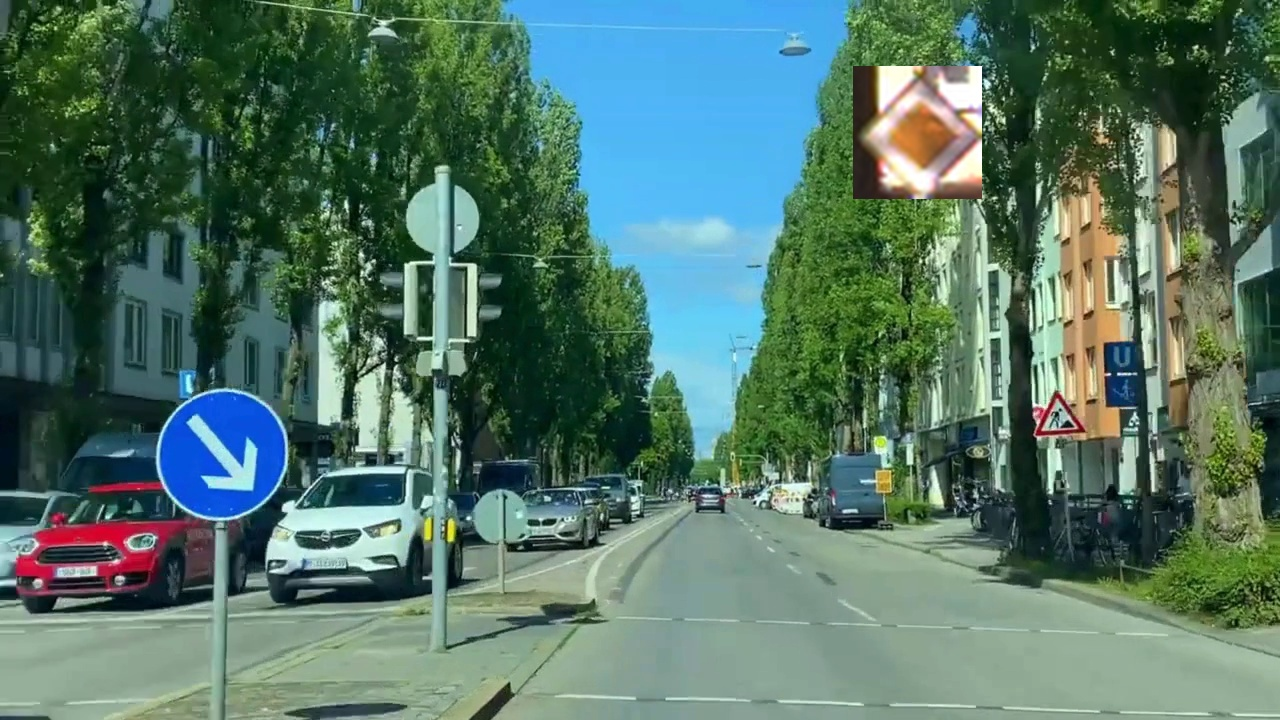Priority road: (853, 66, 982, 199)
